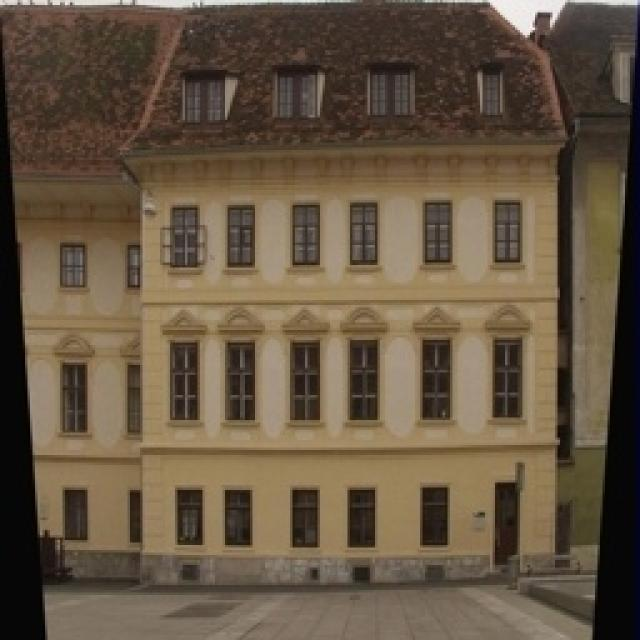building: (0, 0, 550, 632)
